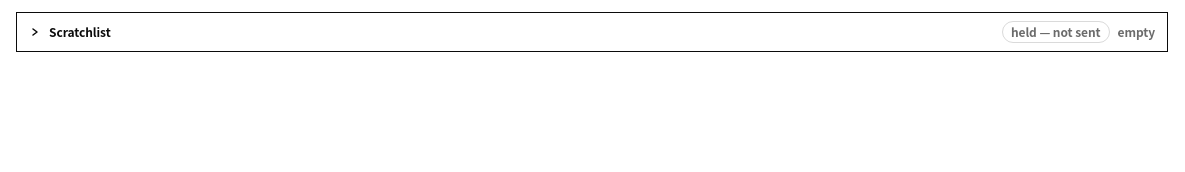
Test: ScratchlistPanel › adds a new entry on Enter; Shift+Enter does not add (preserves newline)
Later steps or results of the test are not shown.
Click the button "Scratchlist held — not sent empty" at (80, 32), box [17, 13, 1167, 51]
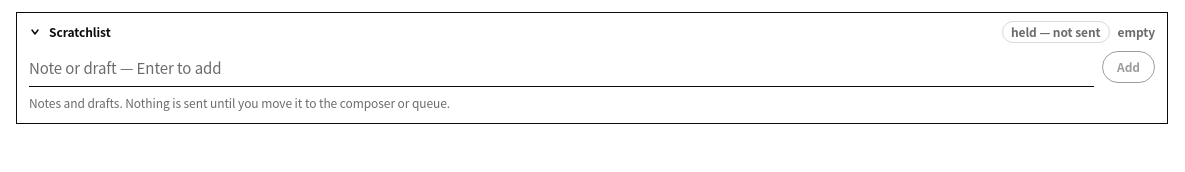
Type "enter add" into the text box named "Add scratchlist entry" at (562, 69), box [29, 51, 1094, 86]
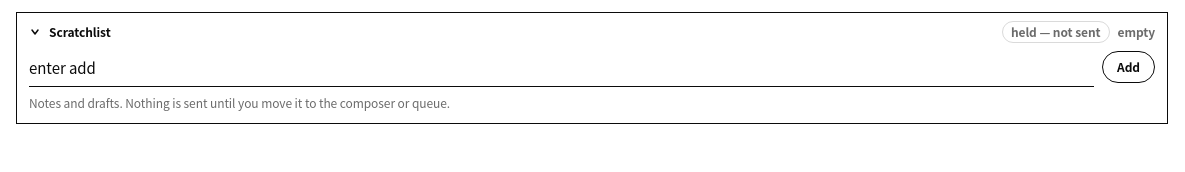
Press Enter in the text box named "Add scratchlist entry", box [29, 51, 1094, 86]
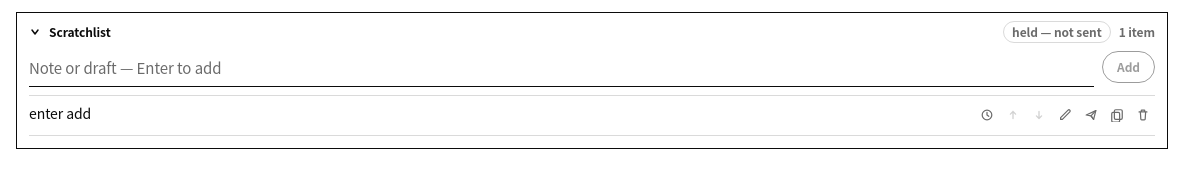
Expected: the text "enter add" is shown, [29, 102, 91, 122]
